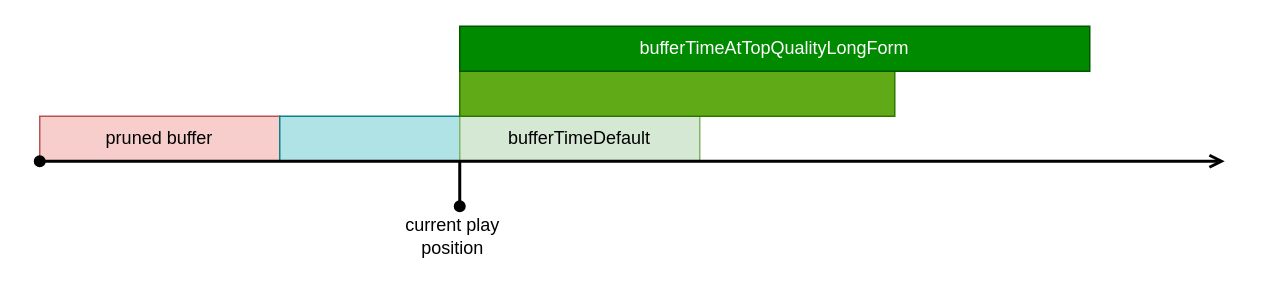
The diagram is 1265 pixels wide and 293 high, and some of its shapes have lost their labels. The box of each missing label's shape, as (x1, y1, x2, y2) in pixels:
bufferTimeAtTopQuality: (458, 70, 895, 116)
bufferToKeep: (278, 115, 460, 161)
